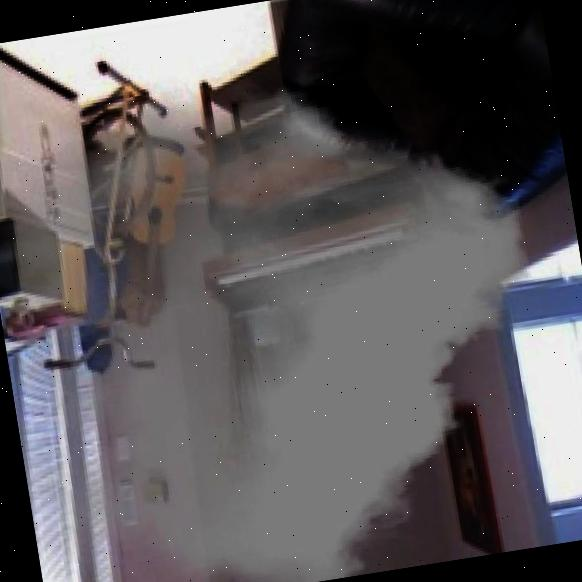smoke: (0, 44, 573, 582)
